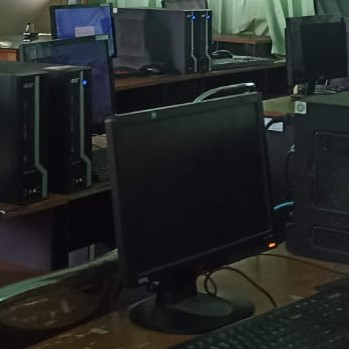monitor: (104, 92, 278, 289), (19, 34, 118, 135), (0, 61, 49, 205), (285, 15, 349, 87), (49, 4, 117, 58), (311, 129, 349, 217)
